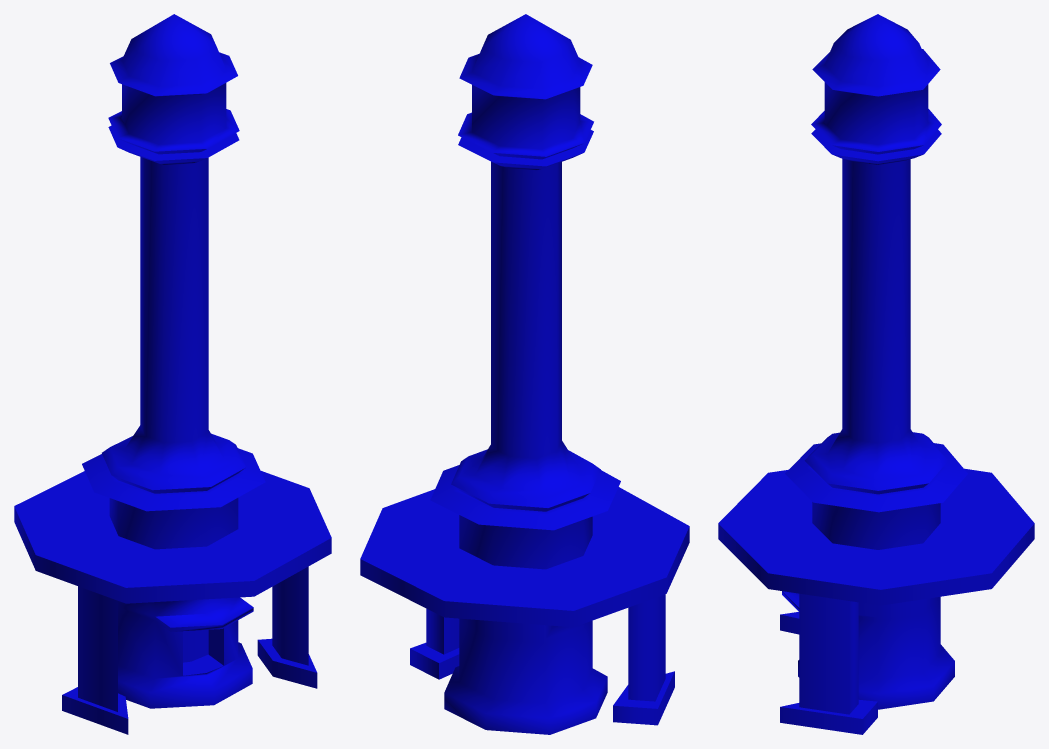
File: mdl_ciudadela_torre_circular.fbx
3 views of the same model, side by side, from view 1: azimuth 30°, elevation 25°; view 2: azimuth 150°, elevation 25°; view 3: azimuth 270°, elevation 25° (orthographic). The views are drawn at different scales.
Visible parts, largest first — view 1: mdl_ciudadela_torre_circular; view 2: mdl_ciudadela_torre_circular; view 3: mdl_ciudadela_torre_circular.
Boxes of the visible parts, x1,y1,x2,y2 form: mdl_ciudadela_torre_circular: (14, 14, 331, 734); mdl_ciudadela_torre_circular: (360, 14, 689, 734); mdl_ciudadela_torre_circular: (718, 14, 1034, 734).
Bounding box in the file's own units: 9.88 × 22.83 × 9.88.
